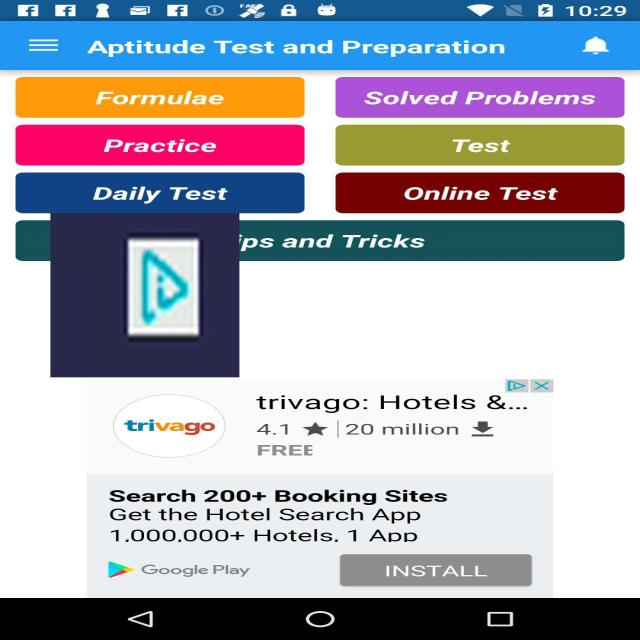sneaking: (51, 213, 240, 377)
